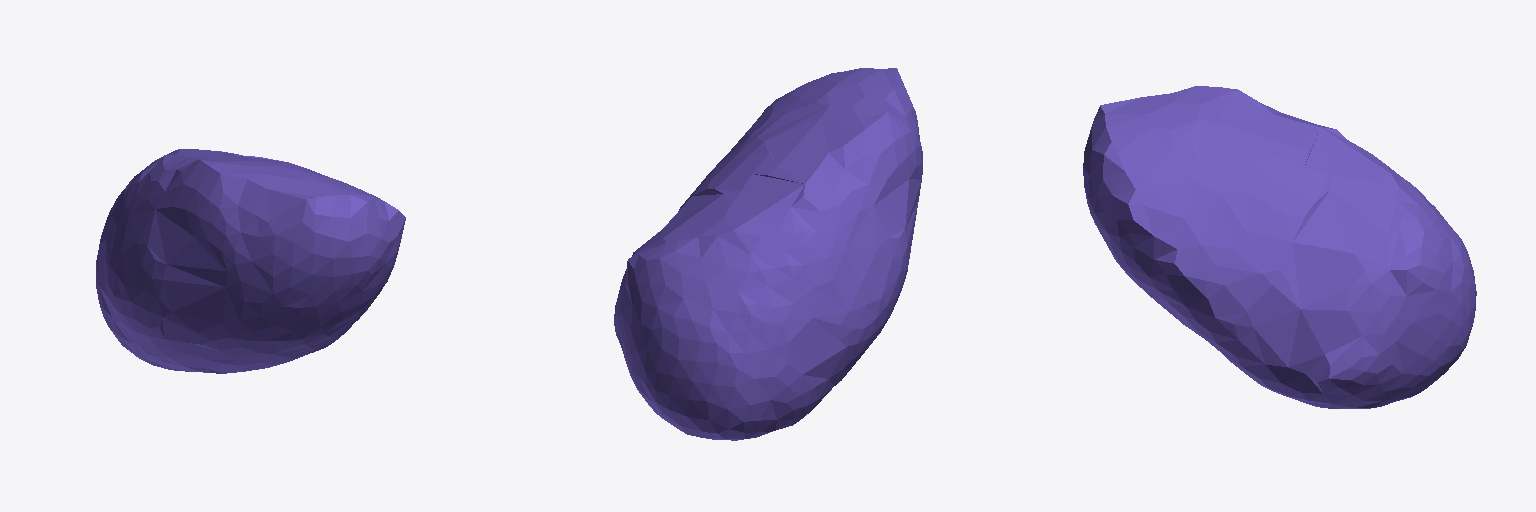
File: Model_342_RH__Habenular_nucleus_(Hb).obj
The picture shows the model from 3 angles: view 1: azimuth 30°, elevation 25°; view 2: azimuth 150°, elevation 25°; view 3: azimuth 270°, elevation 25°; orthographic projection.
Size of the model in its own units: 1.07 by 1.11 by 1.49.